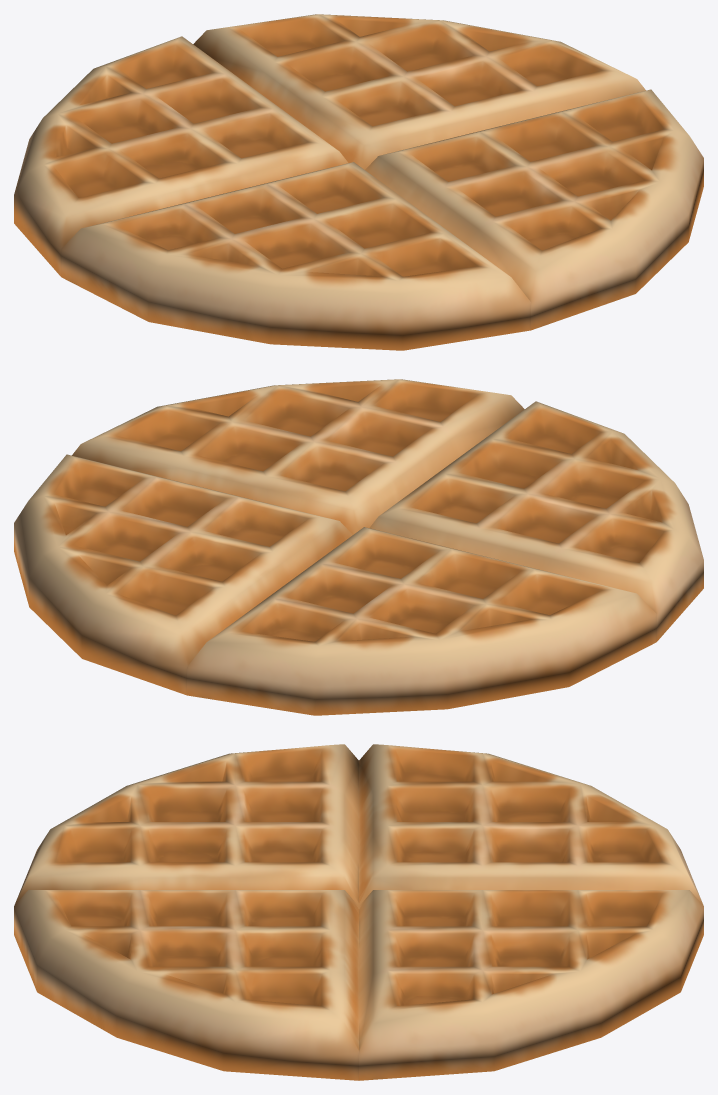
Rendered from waffle_001.fbx.
The picture shows the model from 3 angles, top to bottom: view 1: azimuth 30°, elevation 25°; view 2: azimuth 150°, elevation 25°; view 3: azimuth 270°, elevation 25°; orthographic projection.
Parts seen in each view (by area): view 1: waffle_001; view 2: waffle_001; view 3: waffle_001.
Boxes of the visible parts, left/top/right/bottom form: waffle_001: left=14, top=14, right=703, bottom=350; waffle_001: left=14, top=379, right=703, bottom=715; waffle_001: left=14, top=744, right=703, bottom=1080.
Bounding box in the file's own units: 2.19 × 0.2009 × 2.19.
1 material, 1 textured.
